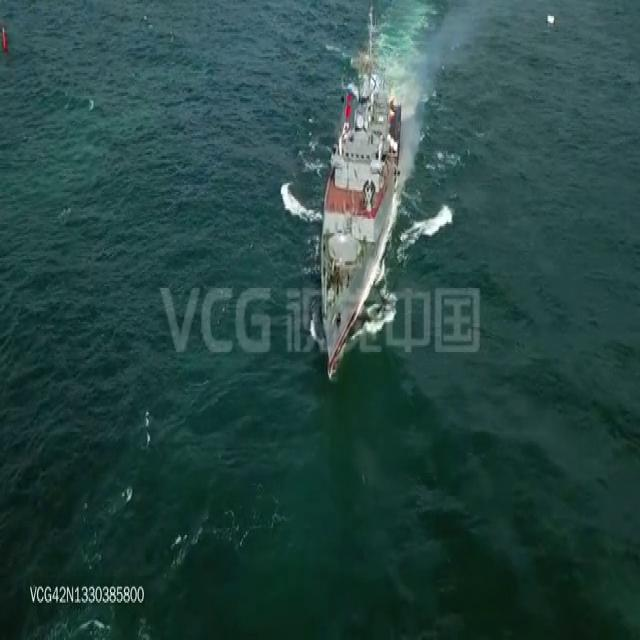navalvessels: (320, 17, 400, 388)
